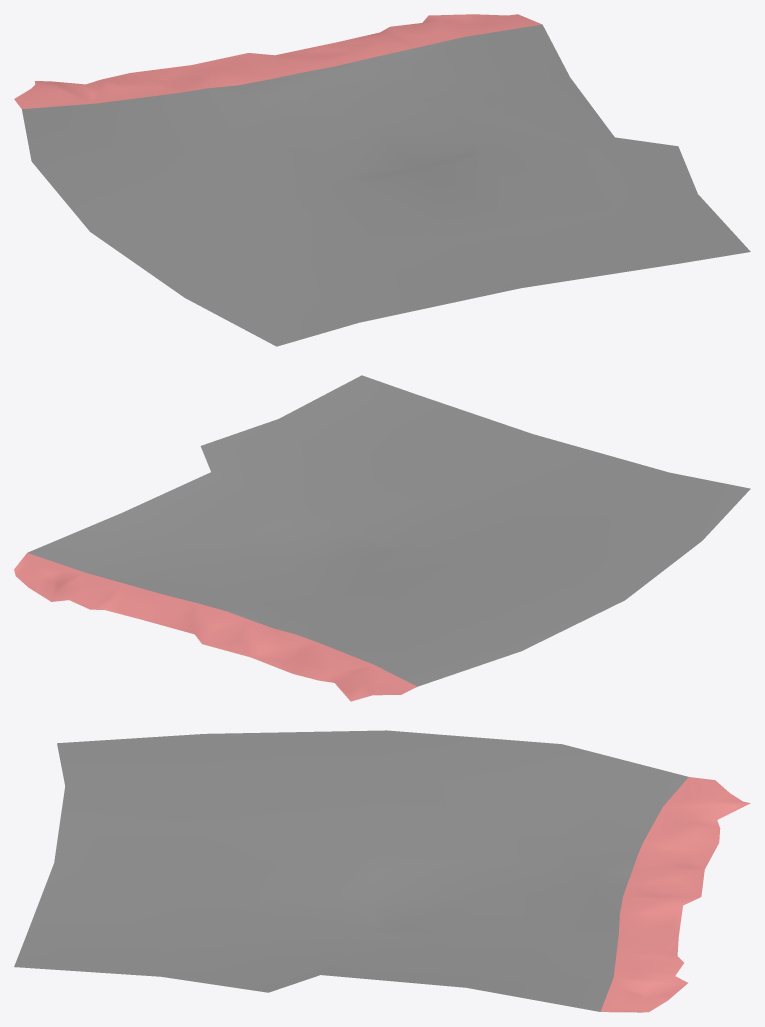
File: TerrainClose.gltf
The picture shows the model from 3 angles, top to bottom: view 1: azimuth 30°, elevation 25°; view 2: azimuth 150°, elevation 25°; view 3: azimuth 270°, elevation 25°; orthographic projection. The views are drawn at different scales.
Visible parts, largest first — view 1: TerrainClose; view 2: TerrainClose; view 3: TerrainClose.
Part boxes in pixels (x1,y1,x2,y2): TerrainClose: (14,14,750,346); TerrainClose: (14,375,750,701); TerrainClose: (14,730,750,1012).
Bounding box in the file's own units: 334 × 7.05 × 378.
